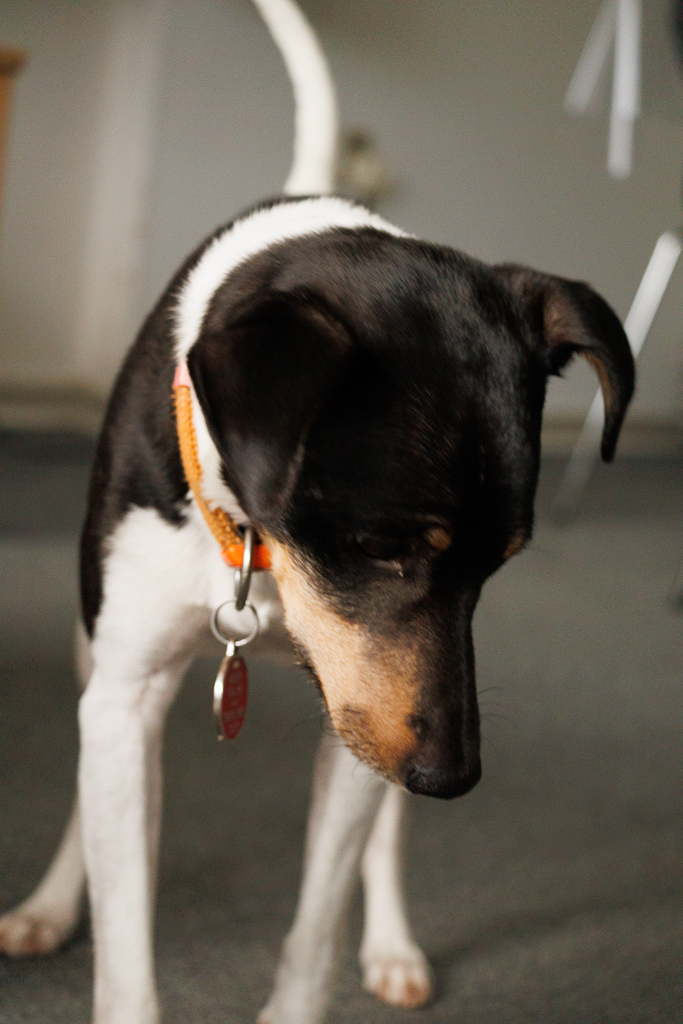Dog: (0, 0, 648, 1024)
